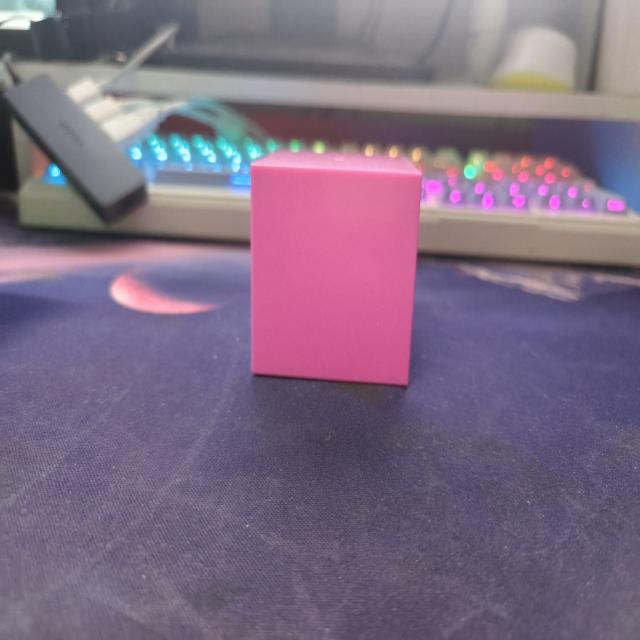pink: (249, 154, 423, 390)
